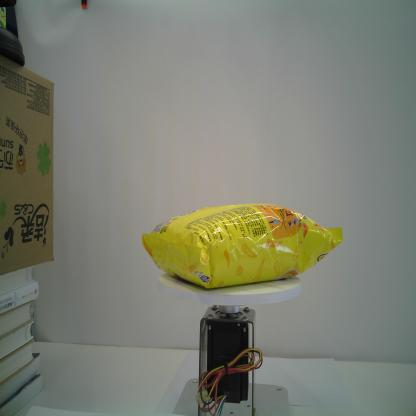Puffed Food: (138, 202, 344, 290)
